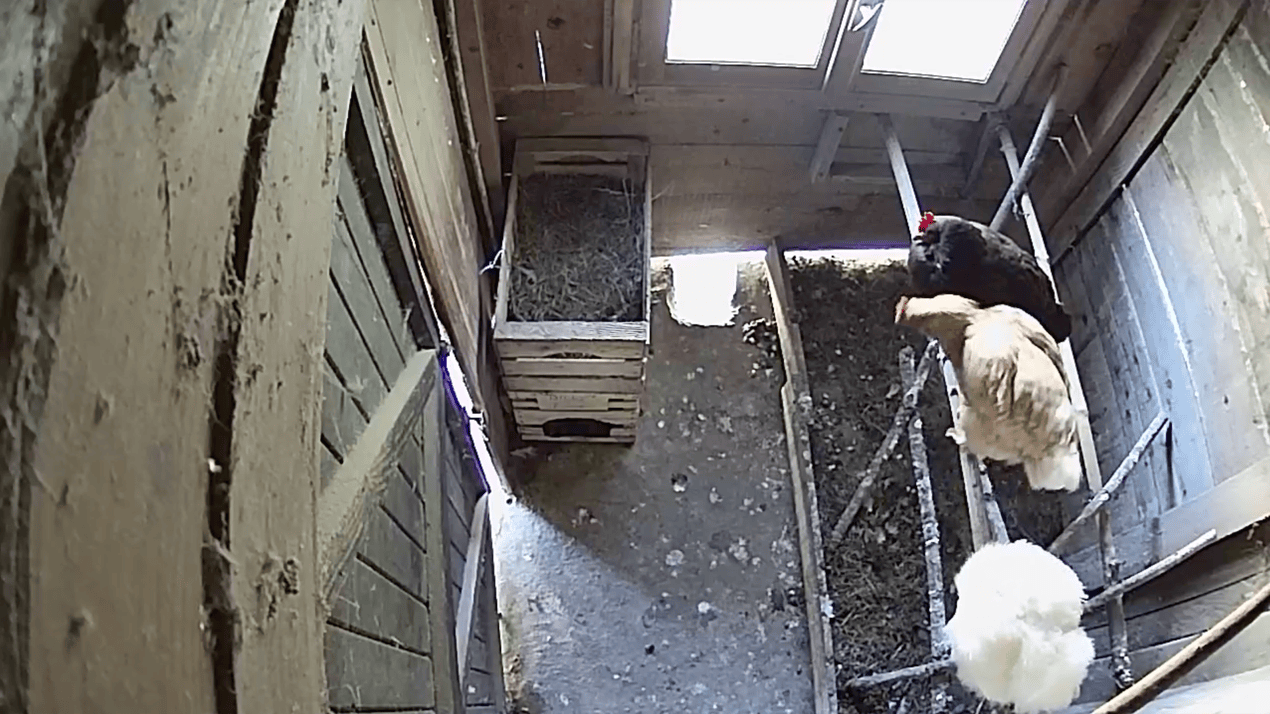chicken: (886, 286, 1092, 499), (930, 533, 1111, 714), (882, 198, 1083, 351)
